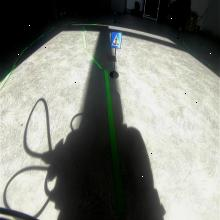crosswalk: (110, 31, 122, 49)
